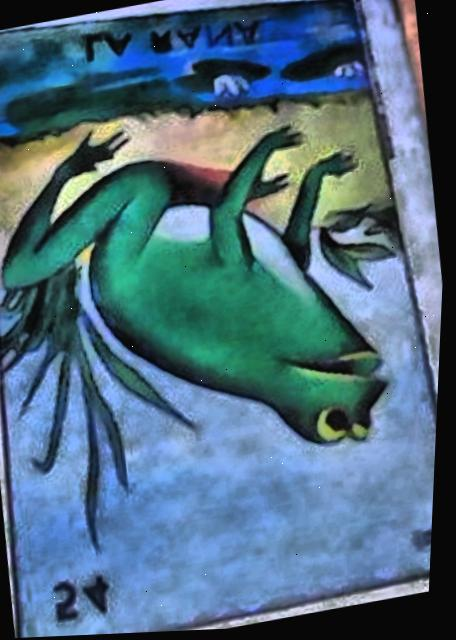La Rana: (0, 1, 440, 638)
